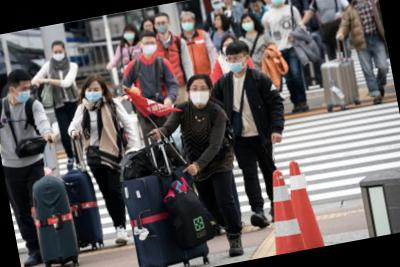mask_weared_incorrect: (251, 2, 263, 15)
with_mask: (188, 82, 213, 108), (225, 53, 247, 75), (14, 84, 34, 105), (84, 85, 104, 104), (140, 37, 159, 57), (154, 19, 171, 36), (220, 41, 236, 58), (180, 17, 196, 33), (52, 48, 67, 63), (122, 28, 137, 42), (240, 19, 255, 33), (212, 1, 223, 12)
without_mask: (212, 16, 223, 29), (144, 24, 155, 33)
